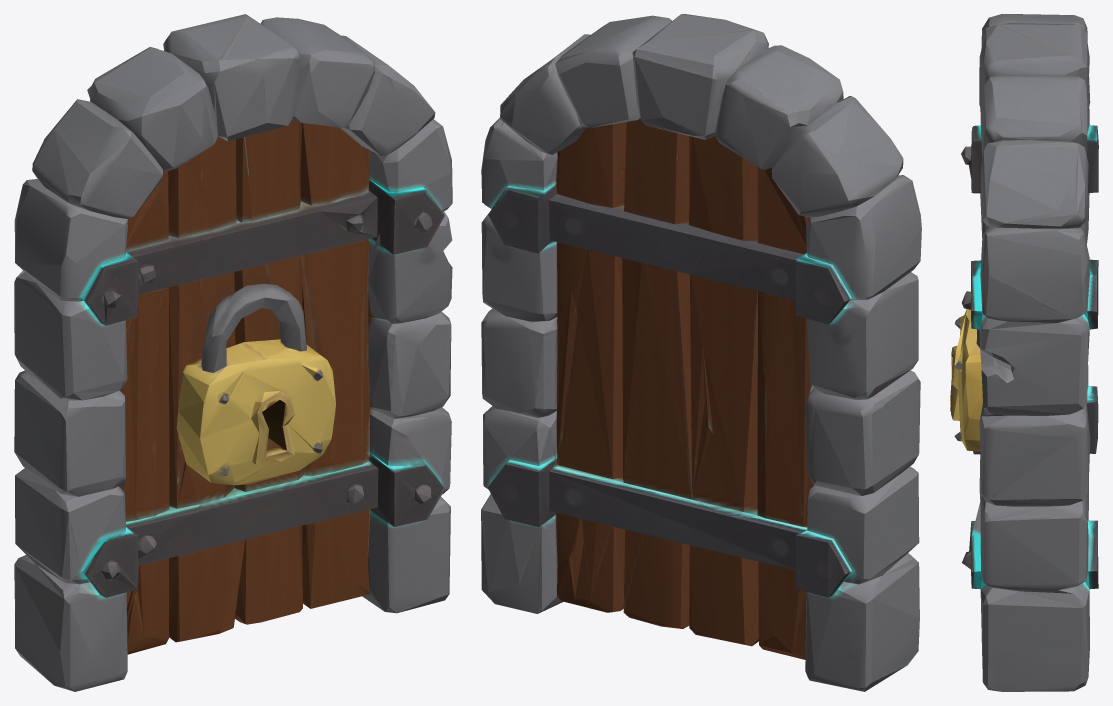
Rendered from door.glb.
The picture shows the model from 3 angles, left to right: view 1: azimuth 30°, elevation 25°; view 2: azimuth 150°, elevation 25°; view 3: azimuth 270°, elevation 25°; orthographic projection. The views are drawn at different scales.
Size of the model in its own units: 1.32 by 1.9 by 0.4542.
Materials: 1 (1 with a texture image).
